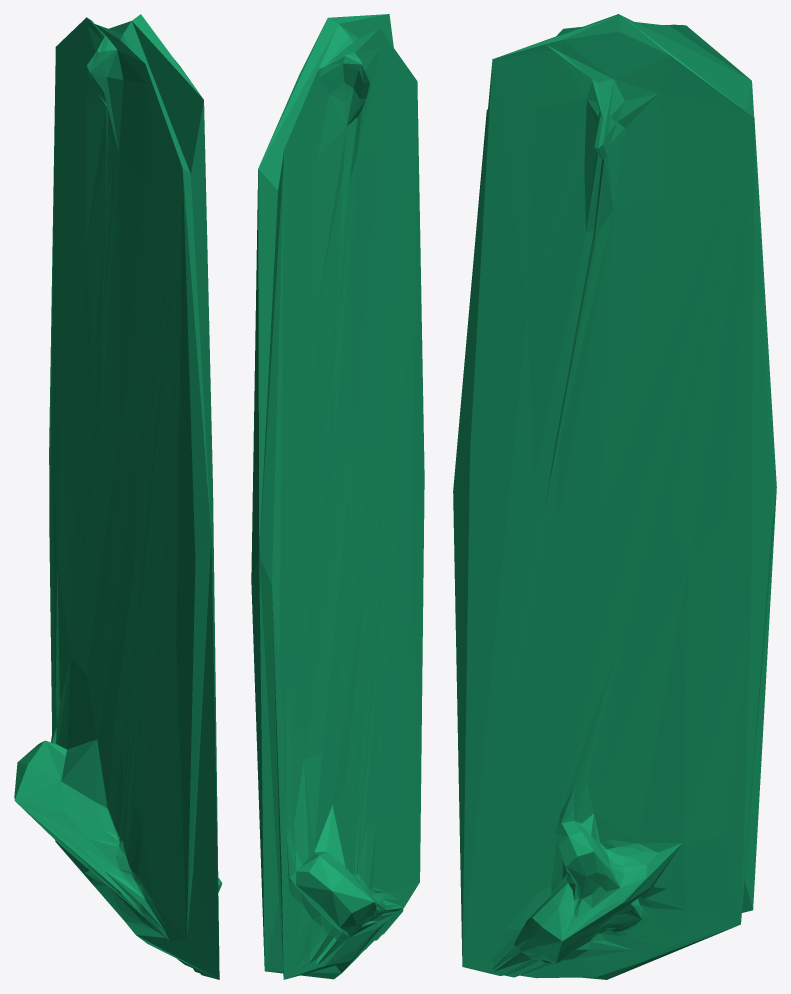
3 views of the same model, side by side, from view 1: azimuth 30°, elevation 25°; view 2: azimuth 150°, elevation 25°; view 3: azimuth 270°, elevation 25° (orthographic). The views are drawn at different scales.
Visible parts, largest first — view 1: 154_Cube.642; view 2: 154_Cube.642; view 3: 154_Cube.642.
Part boxes in pixels (left/top/right/bottom): 154_Cube.642: left=14, top=14, right=222, bottom=979; 154_Cube.642: left=251, top=14, right=424, bottom=979; 154_Cube.642: left=453, top=14, right=776, bottom=979.
Size of the model in its own units: 1.9 by 12.04 by 3.66.
